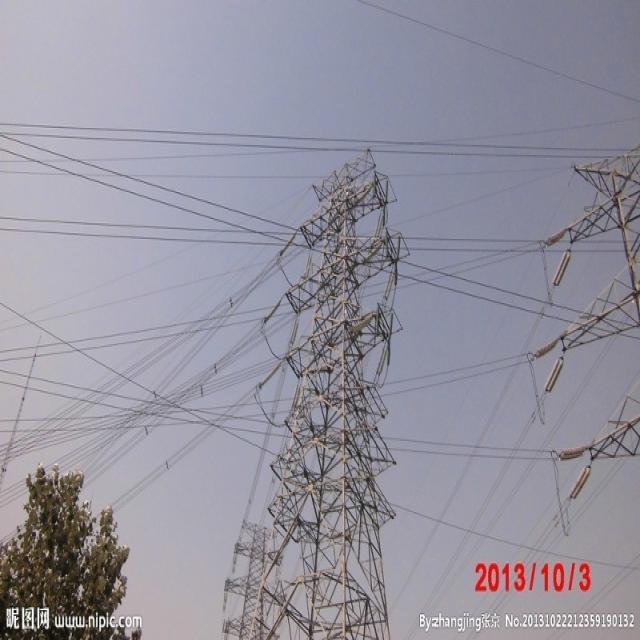non-critical vegetation: (280, 172, 403, 627), (526, 152, 636, 518), (220, 493, 282, 633)
